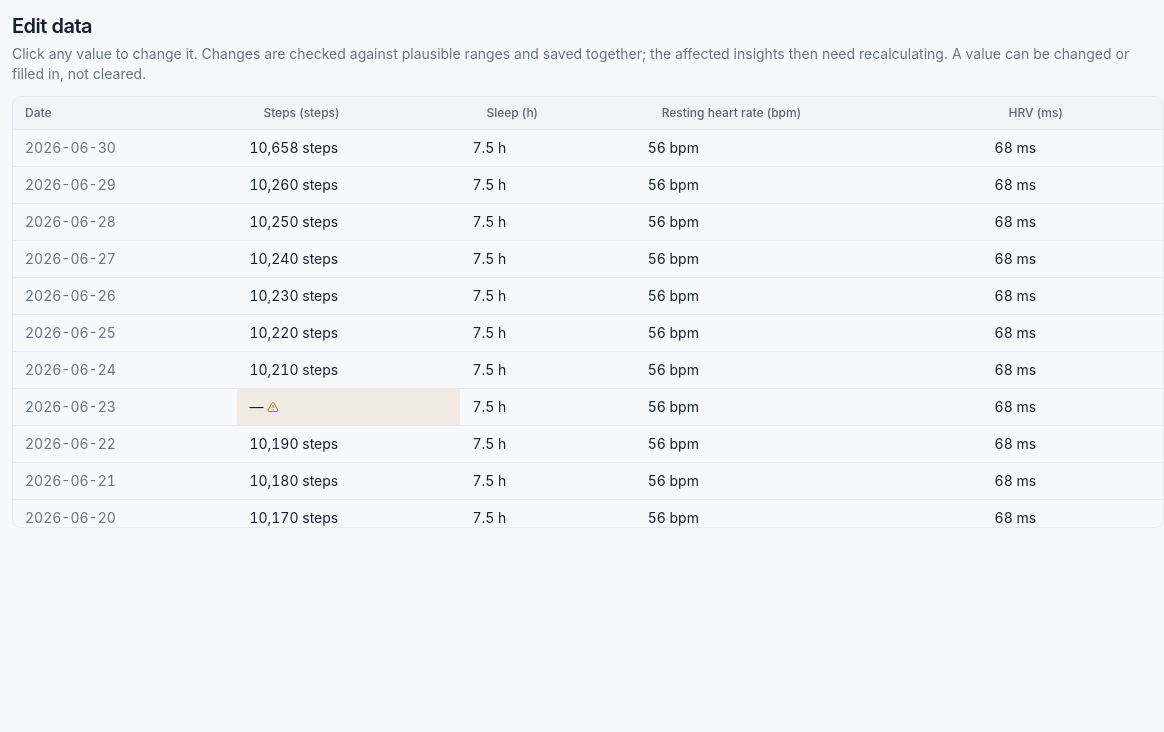
Test: DataEditor › editing a cell marks it changed and shows the unsaved bar
This screenshot has width=1164, height=732.
Click the button "7.5 h" in the row of "2026-06-30": point(548, 148) top-left (466, 134), bottom-right (630, 162)
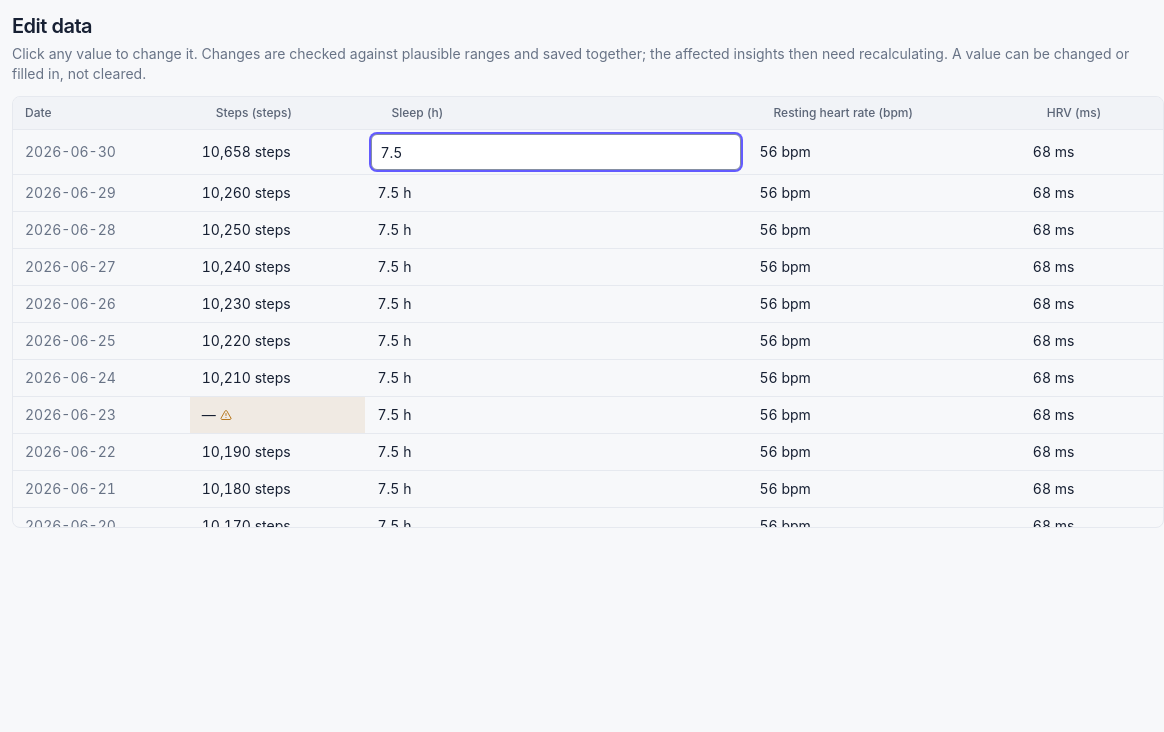
Replace the text in the field with "7.2": point(556, 152) top-left (372, 134), bottom-right (742, 170)
Then press Enter
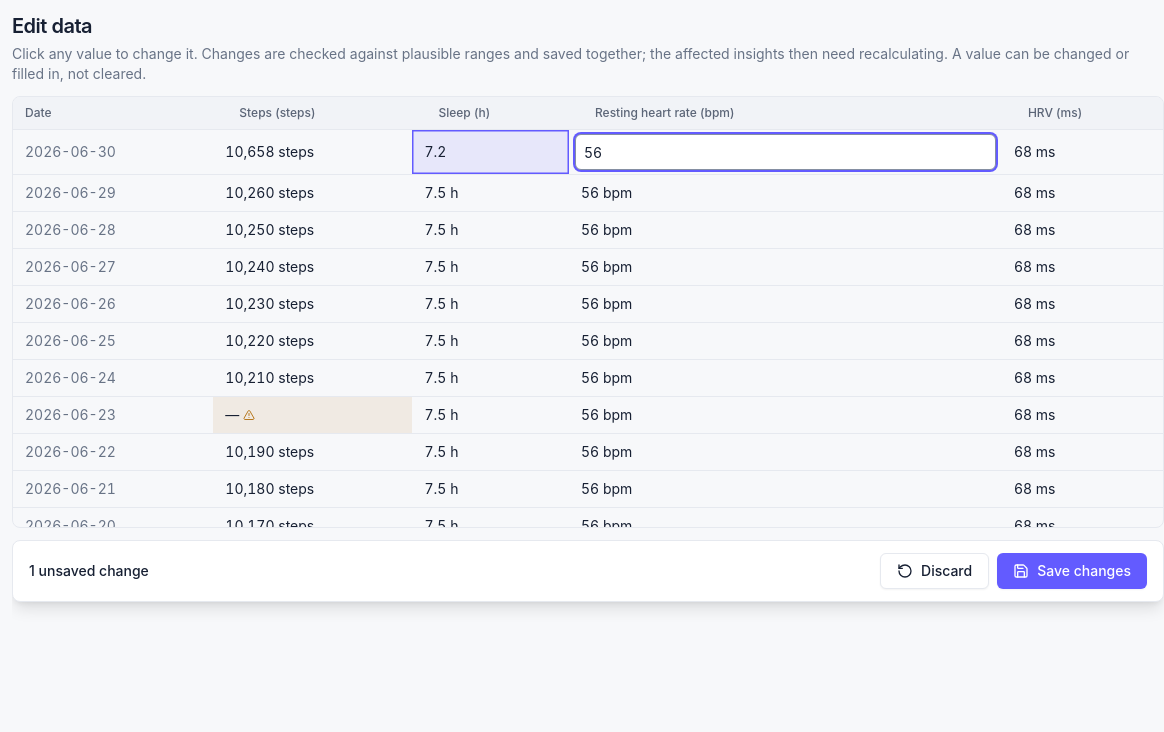
Expected: the text "1 unsaved change" is shown, top-left (29, 561), bottom-right (149, 581)
